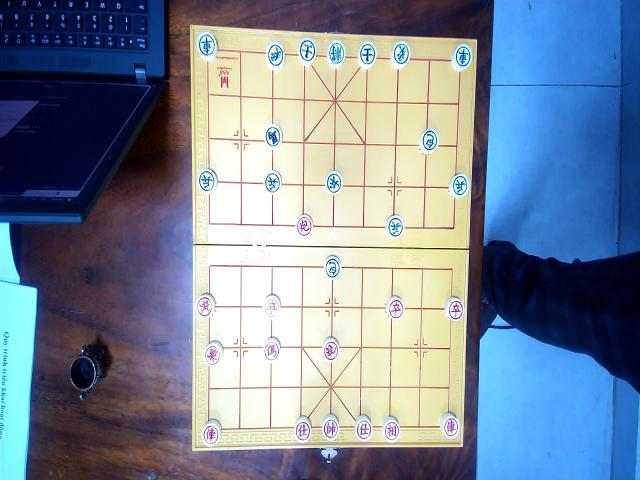piece: (451, 42, 473, 70), (197, 31, 217, 60), (202, 419, 222, 446), (439, 412, 459, 439), (202, 340, 222, 367), (418, 127, 438, 154), (390, 41, 410, 68), (326, 40, 346, 67), (449, 172, 469, 198), (444, 295, 464, 321), (294, 414, 312, 442), (354, 415, 372, 442), (382, 415, 400, 442), (266, 41, 284, 68), (298, 37, 316, 64), (358, 41, 376, 68), (196, 292, 214, 318), (322, 336, 340, 362), (386, 214, 404, 239), (324, 170, 342, 195), (264, 123, 282, 148), (322, 415, 339, 441), (386, 295, 404, 319), (198, 168, 216, 192), (324, 254, 341, 279), (264, 336, 280, 360), (264, 294, 280, 317), (296, 214, 312, 237), (264, 171, 280, 194)
